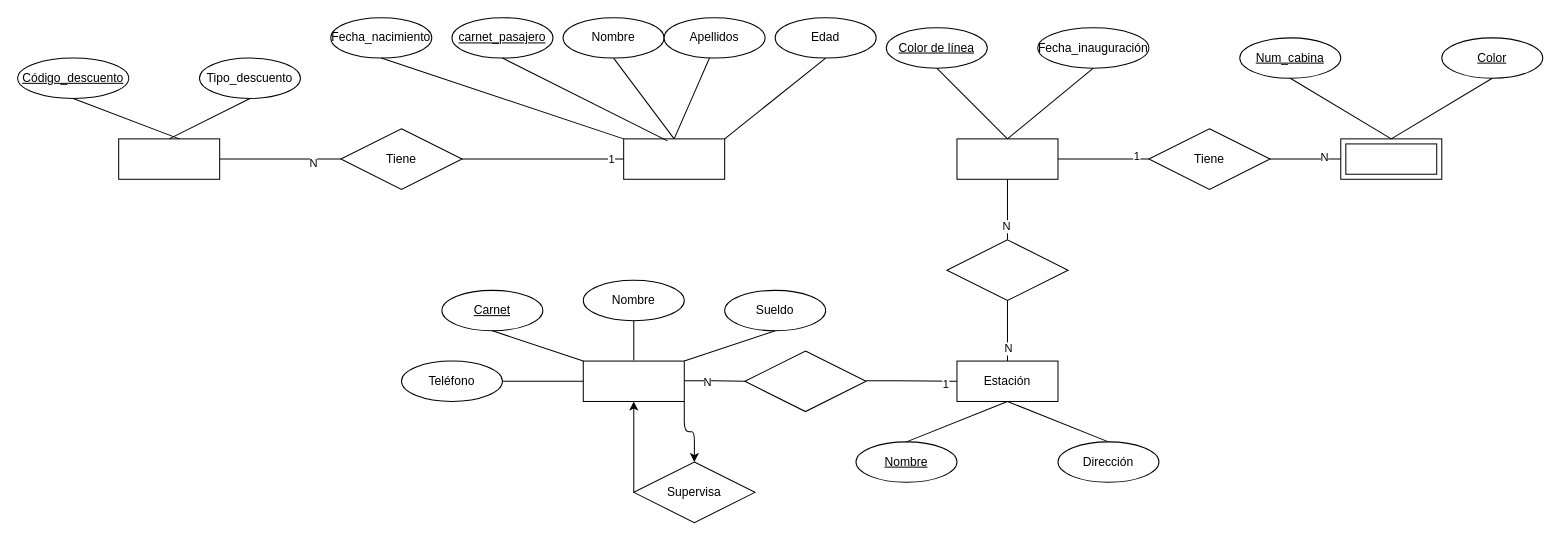
The diagram is 1560 pixels wide and 540 high, and some of its shapes have lost their labels. Here are the shapes that lost their labels. From the top down, the centre of each, then its label:
point 169,158: Bono
point 674,158: Pasajero
point 1007,158: Línea
point 1391,158: Cabina
point 1007,269: Pasa por:
point 633,380: Empleado
point 805,381: Trabaja
